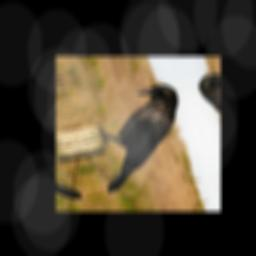Crow: (76, 82, 205, 195)
